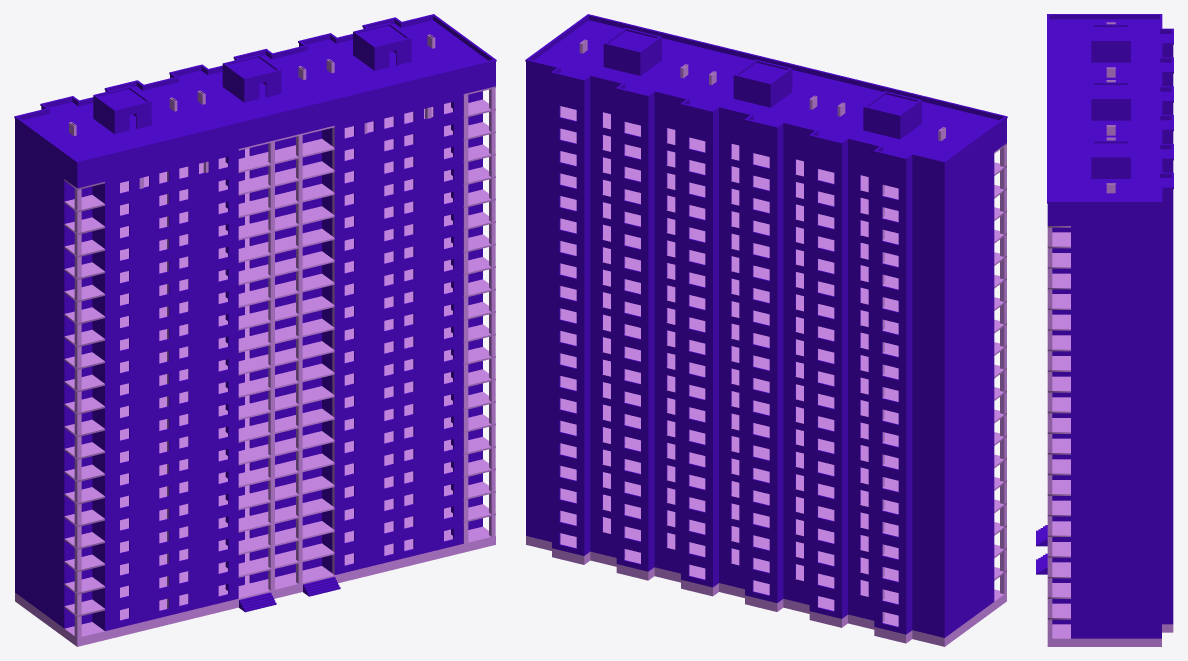
File: Building_01_1.FBX
3 renders of one model, left to right at view 1: azimuth 30°, elevation 25°; view 2: azimuth 150°, elevation 25°; view 3: azimuth 270°, elevation 25°, orthographic. The views are drawn at different scales.
Parts seen in each view (by area): view 1: Building_01_1; view 2: Building_01_1; view 3: Building_01_1.
Part boxes in pixels (left/top/right/bottom): Building_01_1: left=14, top=14, right=496, bottom=646; Building_01_1: left=525, top=14, right=1007, bottom=646; Building_01_1: left=1036, top=14, right=1173, bottom=646.
Size of the model in its own units: 58545 by 67189 by 18137.
